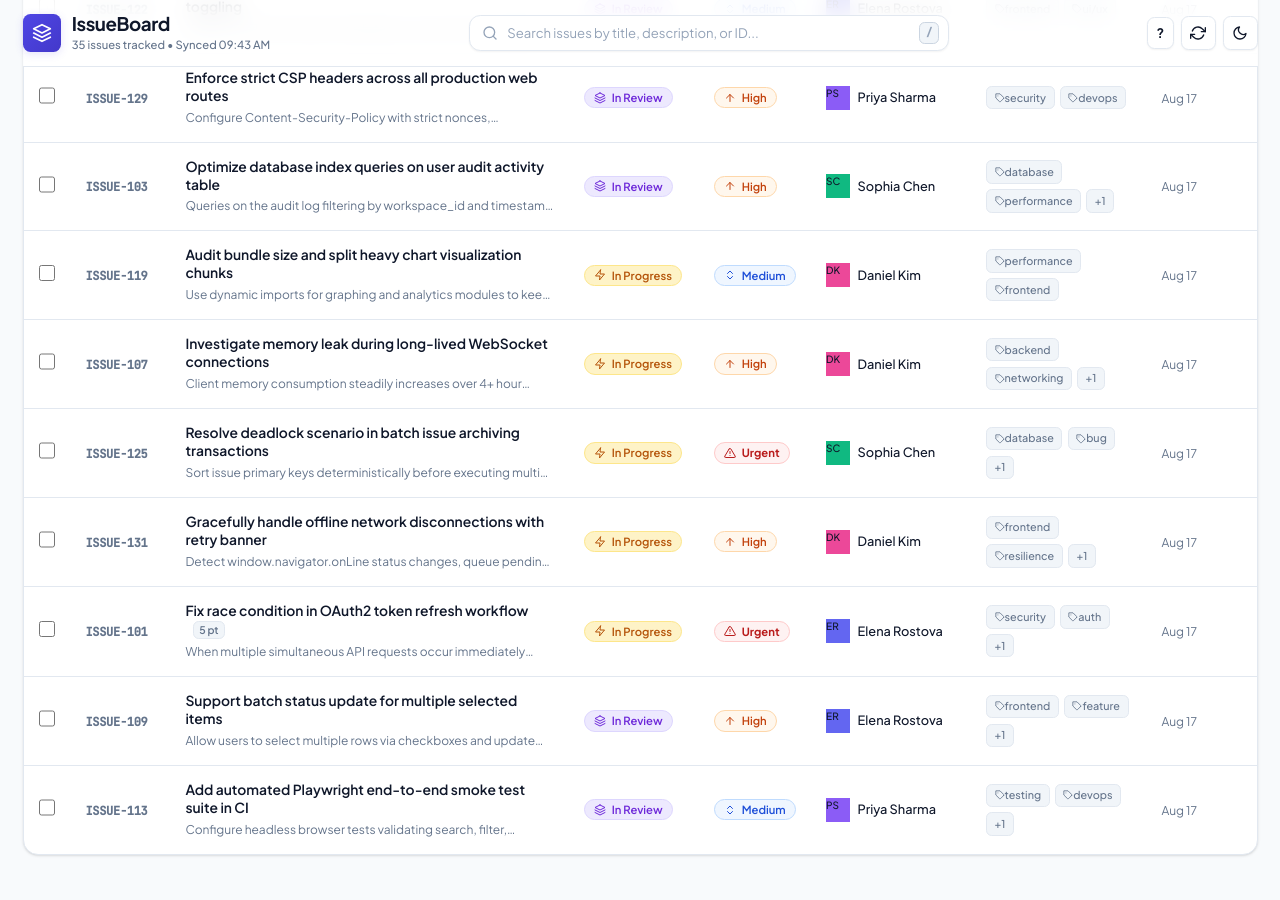
IssueDetailModal Component and Interactions › opens modal dialog when clicking an issue row and traps focus
(page scrolled)
Click the text "Fix race condition in OAuth2 token refresh workflow" at (357, 610), box [185,602,528,619]
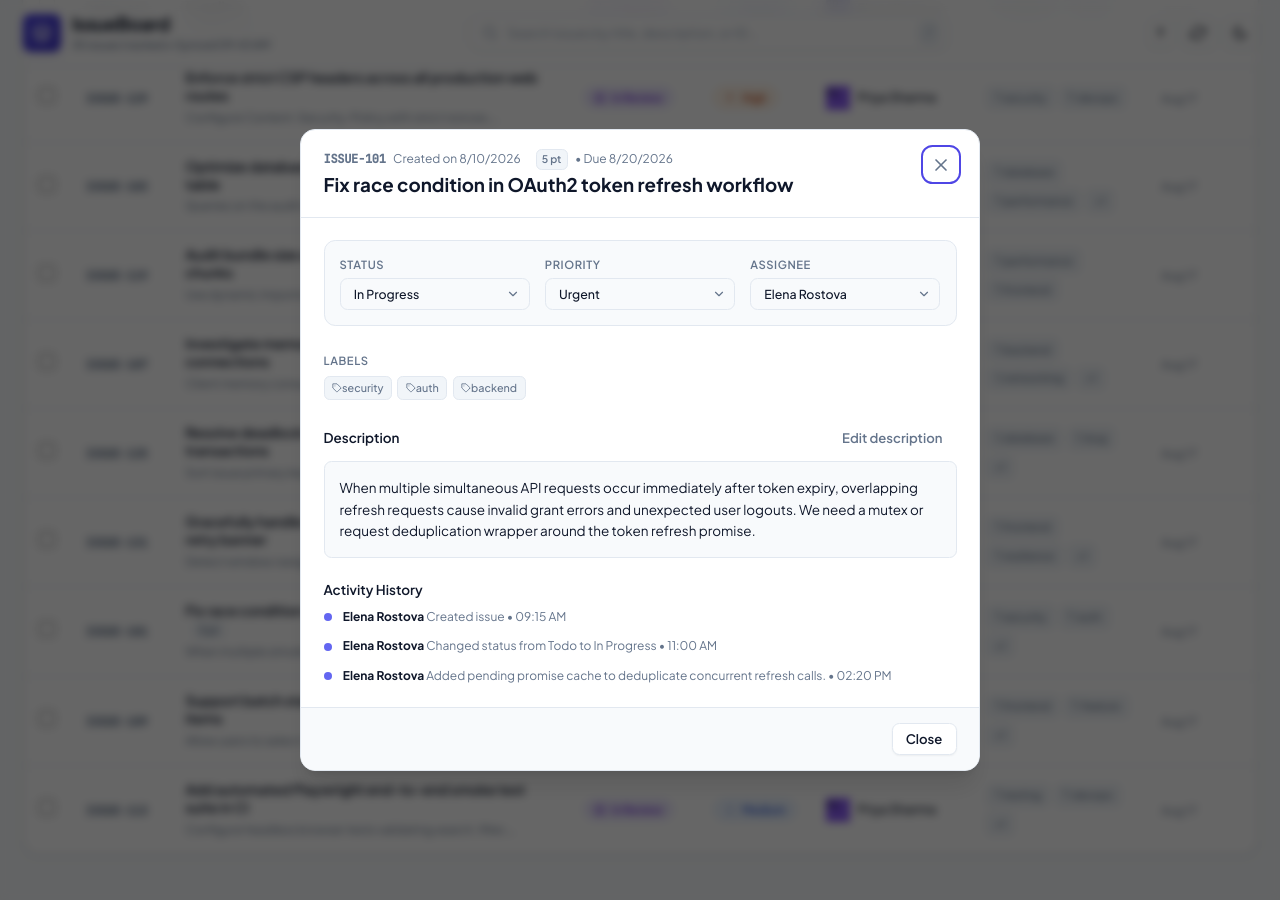
Expected: the dialog named "Fix race condition in OAuth2 token refresh workflow" is shown, [300,129,980,771]
Expected: the heading "Activity History" is shown, [324,581,423,598]
